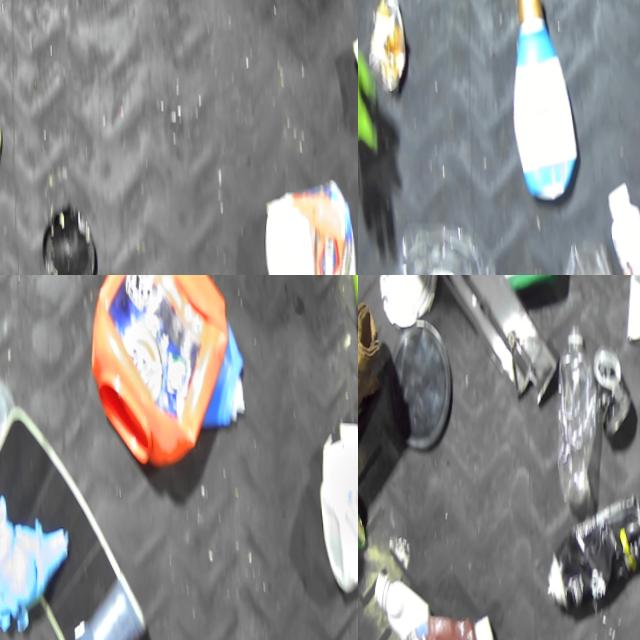can: (542, 485, 640, 613), (364, 0, 408, 89), (591, 341, 632, 434), (377, 275, 439, 328), (0, 369, 15, 463), (623, 275, 640, 350), (358, 498, 365, 549)
milk_jug: (316, 411, 358, 595)
non_white_jug: (84, 275, 233, 470), (508, 0, 581, 201), (262, 170, 356, 275), (543, 230, 640, 275)
plastic_bottle: (553, 321, 598, 506)
